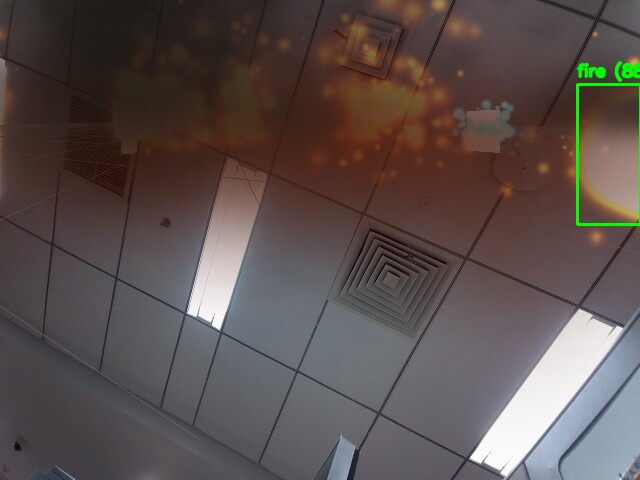fire: (577, 84, 640, 224)
